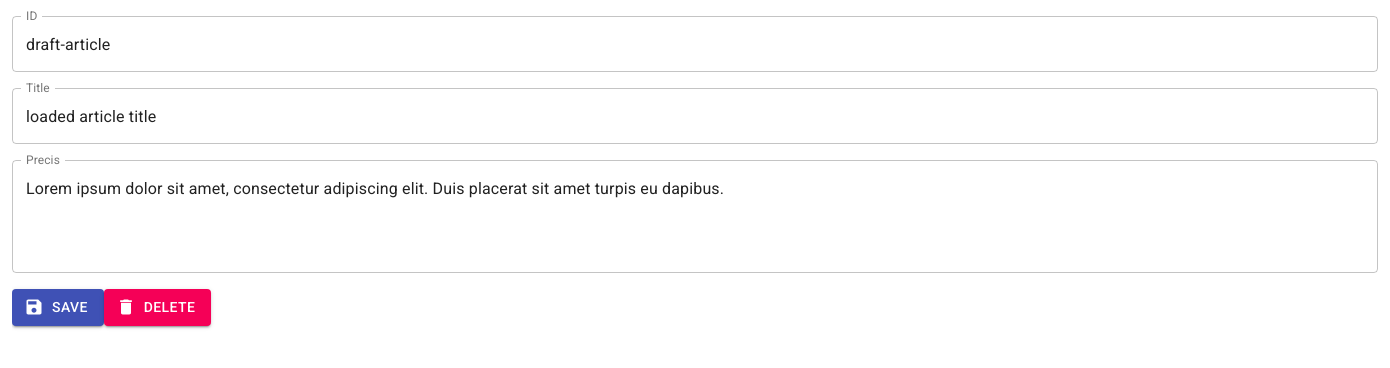
Test: Article Details Form › Displays error if submitted with no title
Clear the field labelled "Title" at (695, 116), box [12,88,1378,144]
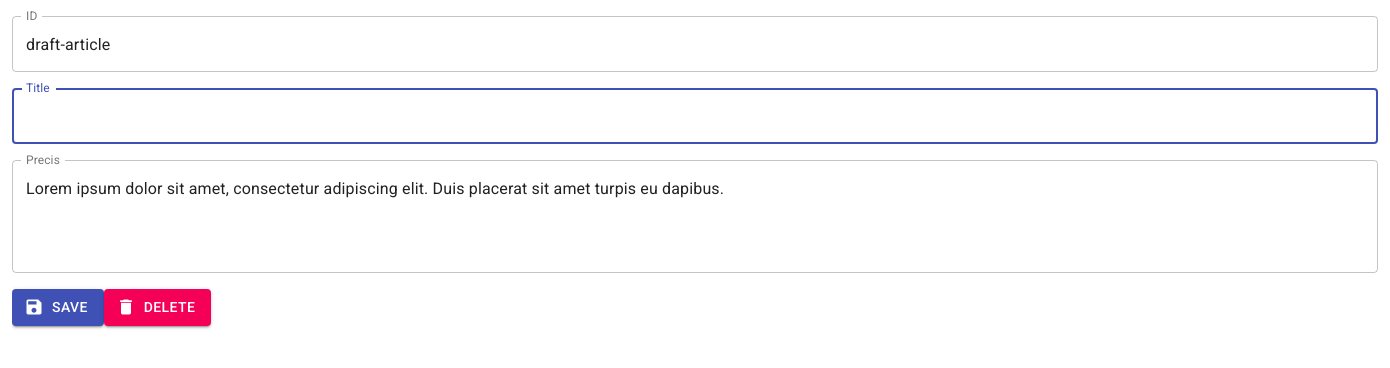
Click the button "Save".
click(58, 307)  # box [12,289,104,326]
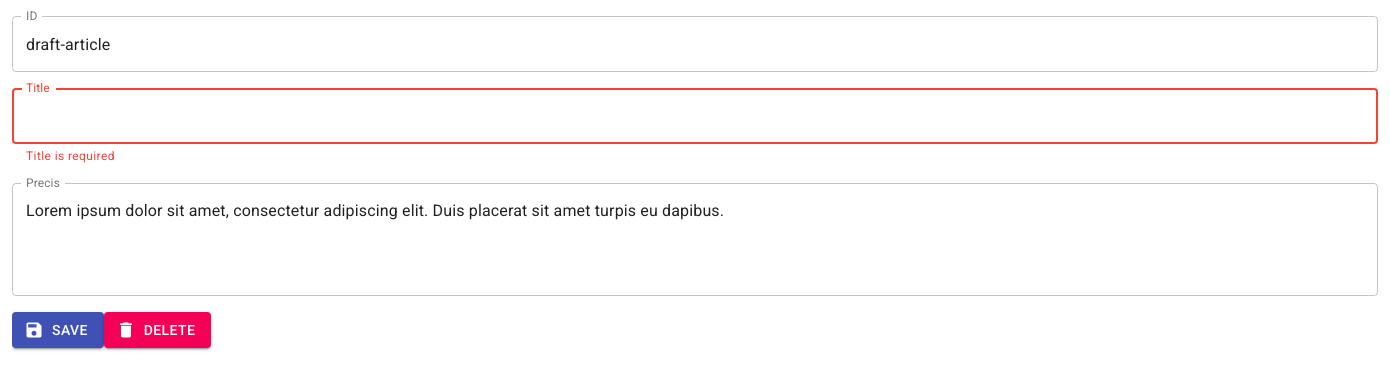
Expected: the text "Title is required" is shown, [26,149,115,163]
